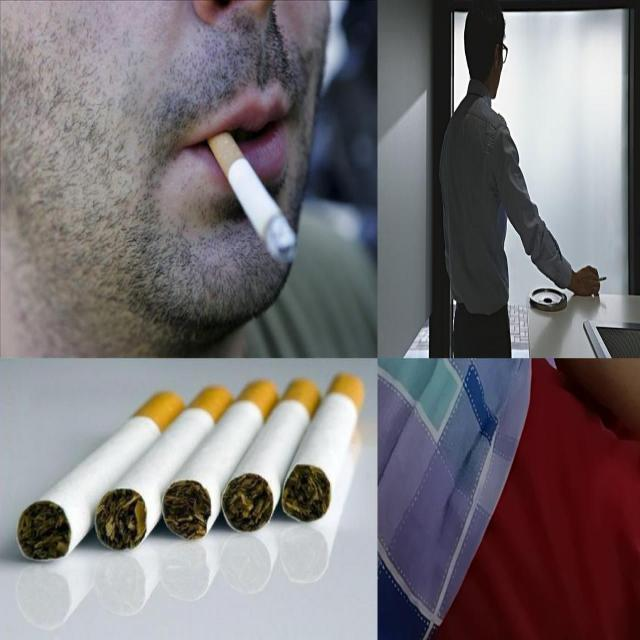smoke: (16, 391, 185, 562), (94, 384, 236, 551), (162, 379, 280, 542), (221, 376, 322, 534), (281, 372, 365, 524), (208, 128, 298, 266), (596, 276, 606, 282)
